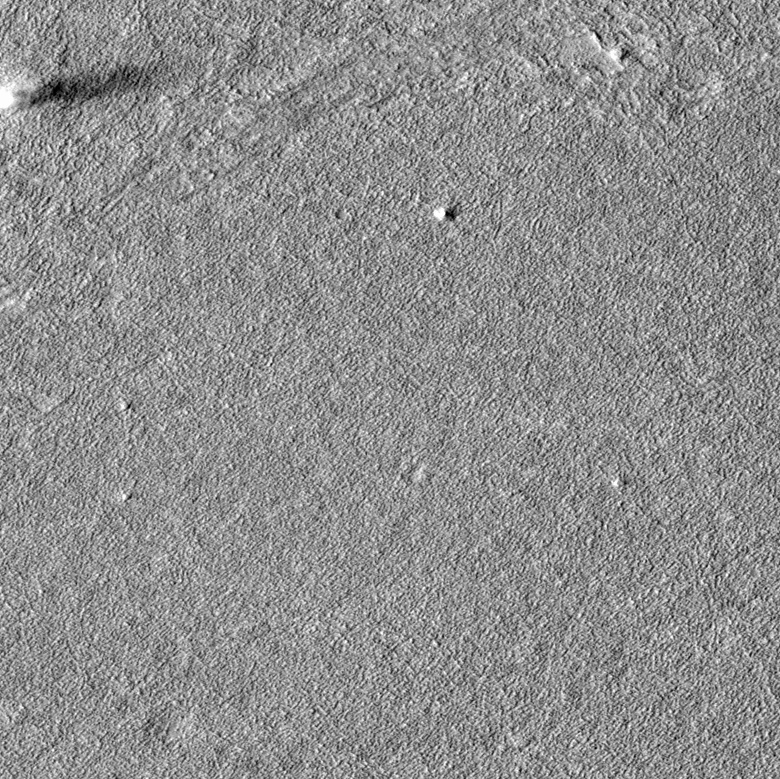dust_devil: (1, 58, 158, 110)
